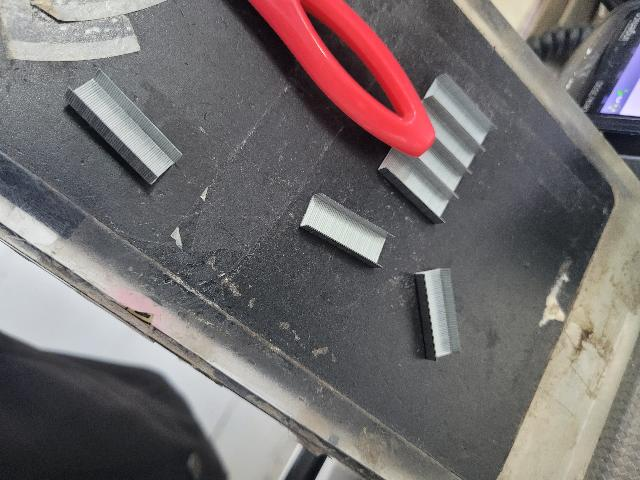Metal: (377, 68, 513, 229), (63, 62, 190, 199), (295, 179, 393, 272), (419, 268, 475, 363)
